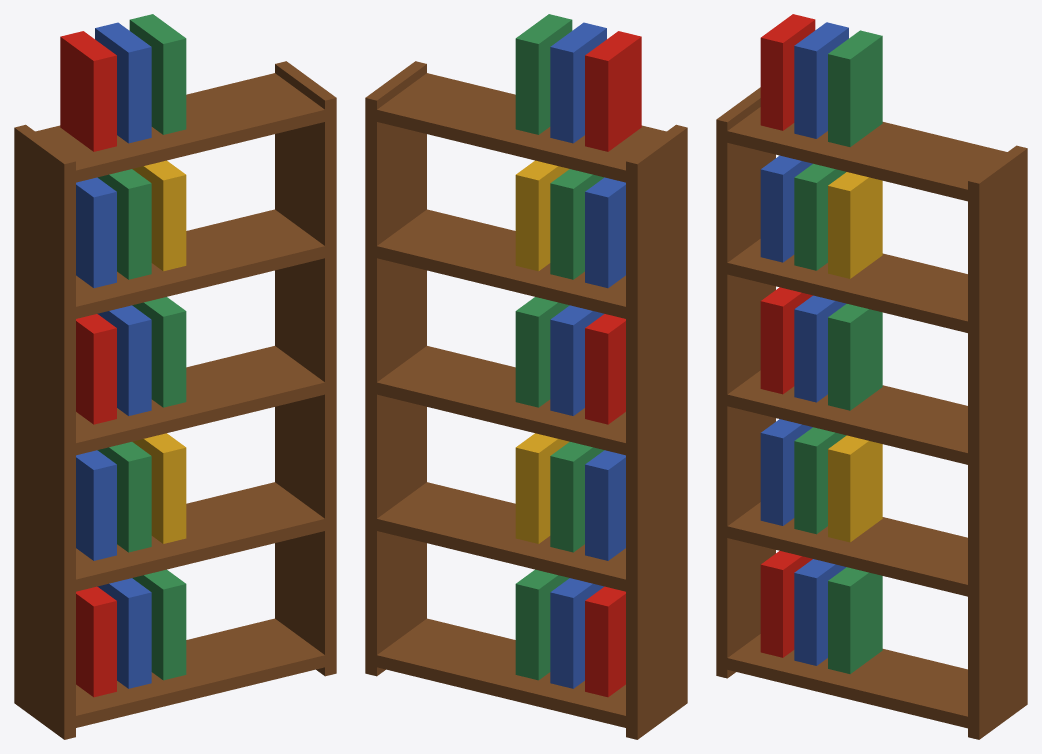
Rendered from bookshelf_tall.glb.
3 renders of one model, left to right at view 1: azimuth 30°, elevation 25°; view 2: azimuth 150°, elevation 25°; view 3: azimuth 330°, elevation 25°, orthographic. The views are drawn at different scales.
Parts seen in each view (by area): view 1: bookshelf_tall; view 2: bookshelf_tall; view 3: bookshelf_tall.
Part boxes in pixels (bbox=[...]): bookshelf_tall: bbox=[14, 14, 336, 739]; bookshelf_tall: bbox=[365, 14, 687, 739]; bookshelf_tall: bbox=[716, 14, 1027, 739].
Size of the model in its own units: 0.94 by 2.19 by 0.3.
